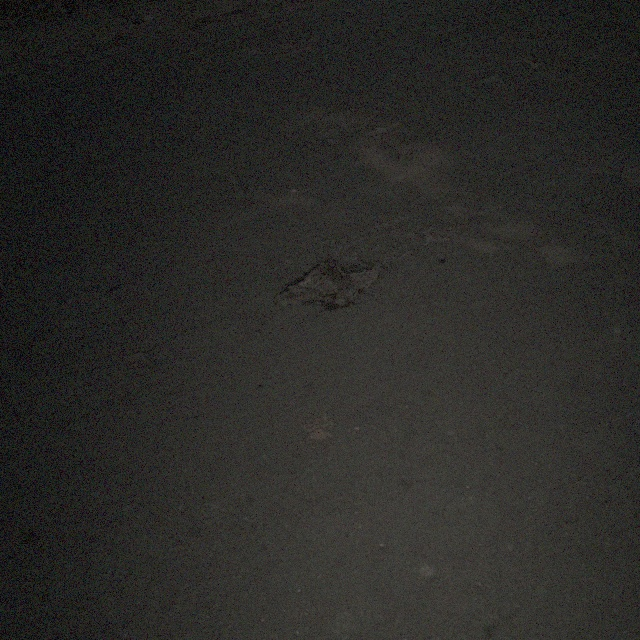pothole: (270, 254, 387, 308)
